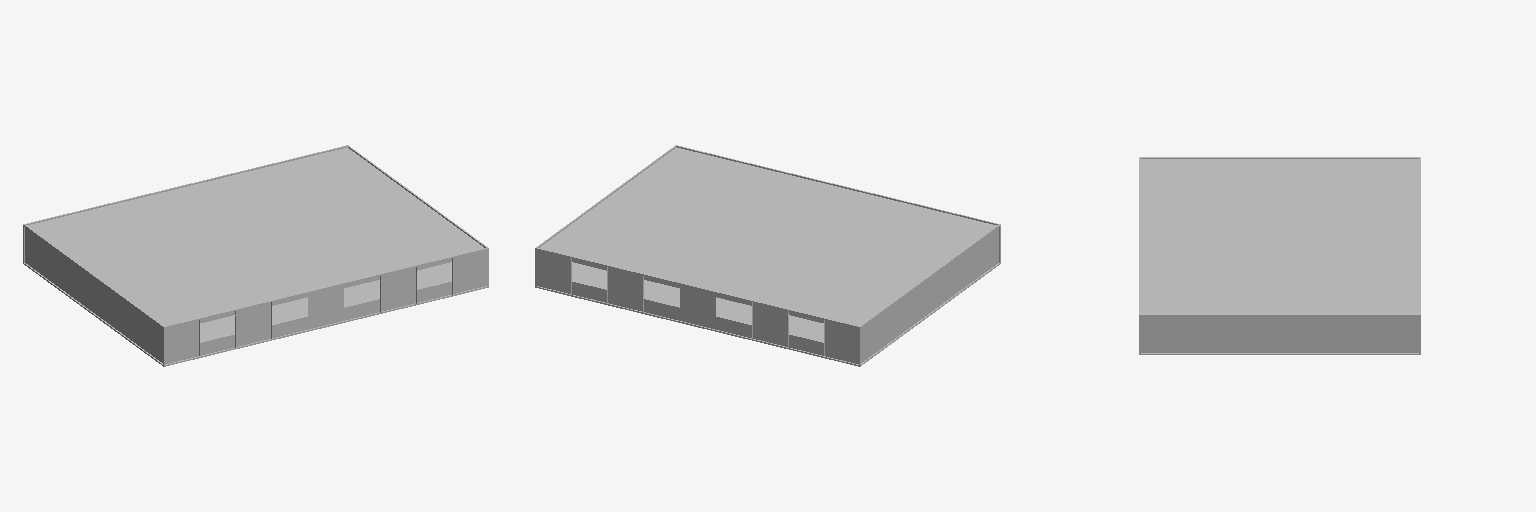
File: room1.obj
3 renders of one model, left to right at view 1: azimuth 30°, elevation 25°; view 2: azimuth 150°, elevation 25°; view 3: azimuth 270°, elevation 25°, orthographic.
Visible parts, largest first — view 1: Box003; view 2: Box003; view 3: Box003.
Boxes of the visible parts, x1,y1,x2,y2 form: Box003: [23, 145, 488, 366]; Box003: [535, 145, 1000, 366]; Box003: [1139, 157, 1420, 354].
Bounding box in the file's own units: 1200 × 140 × 900.